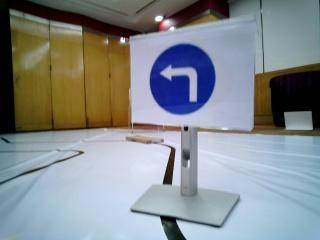left: (133, 36, 249, 118)
